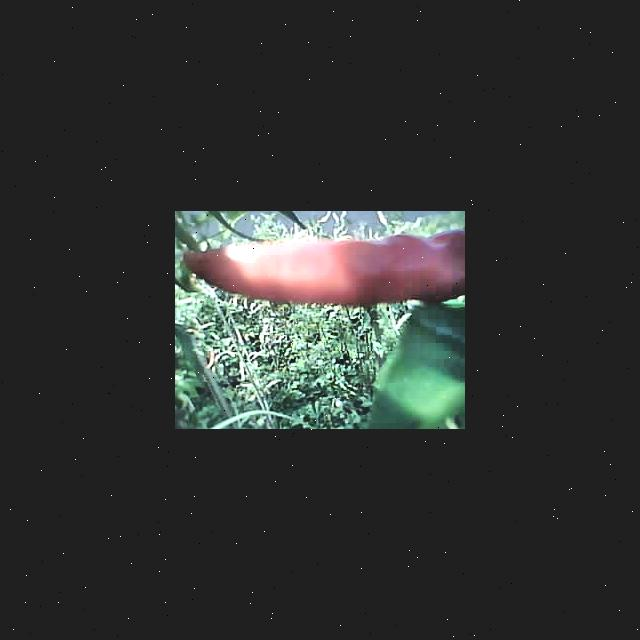Cabai: (187, 232, 465, 304)
